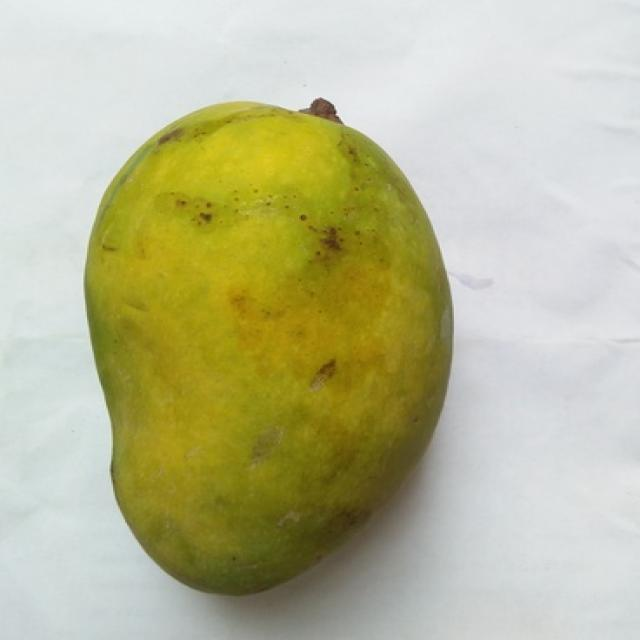Mango: (87, 104, 450, 592)
